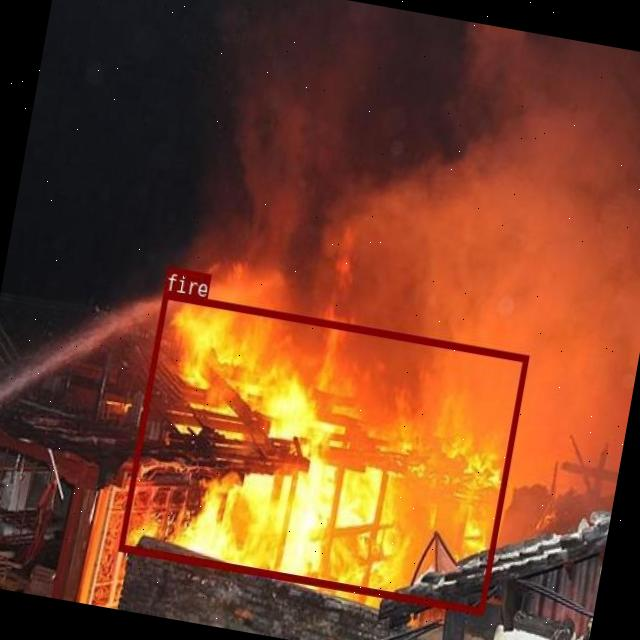fire: (117, 291, 528, 614)
